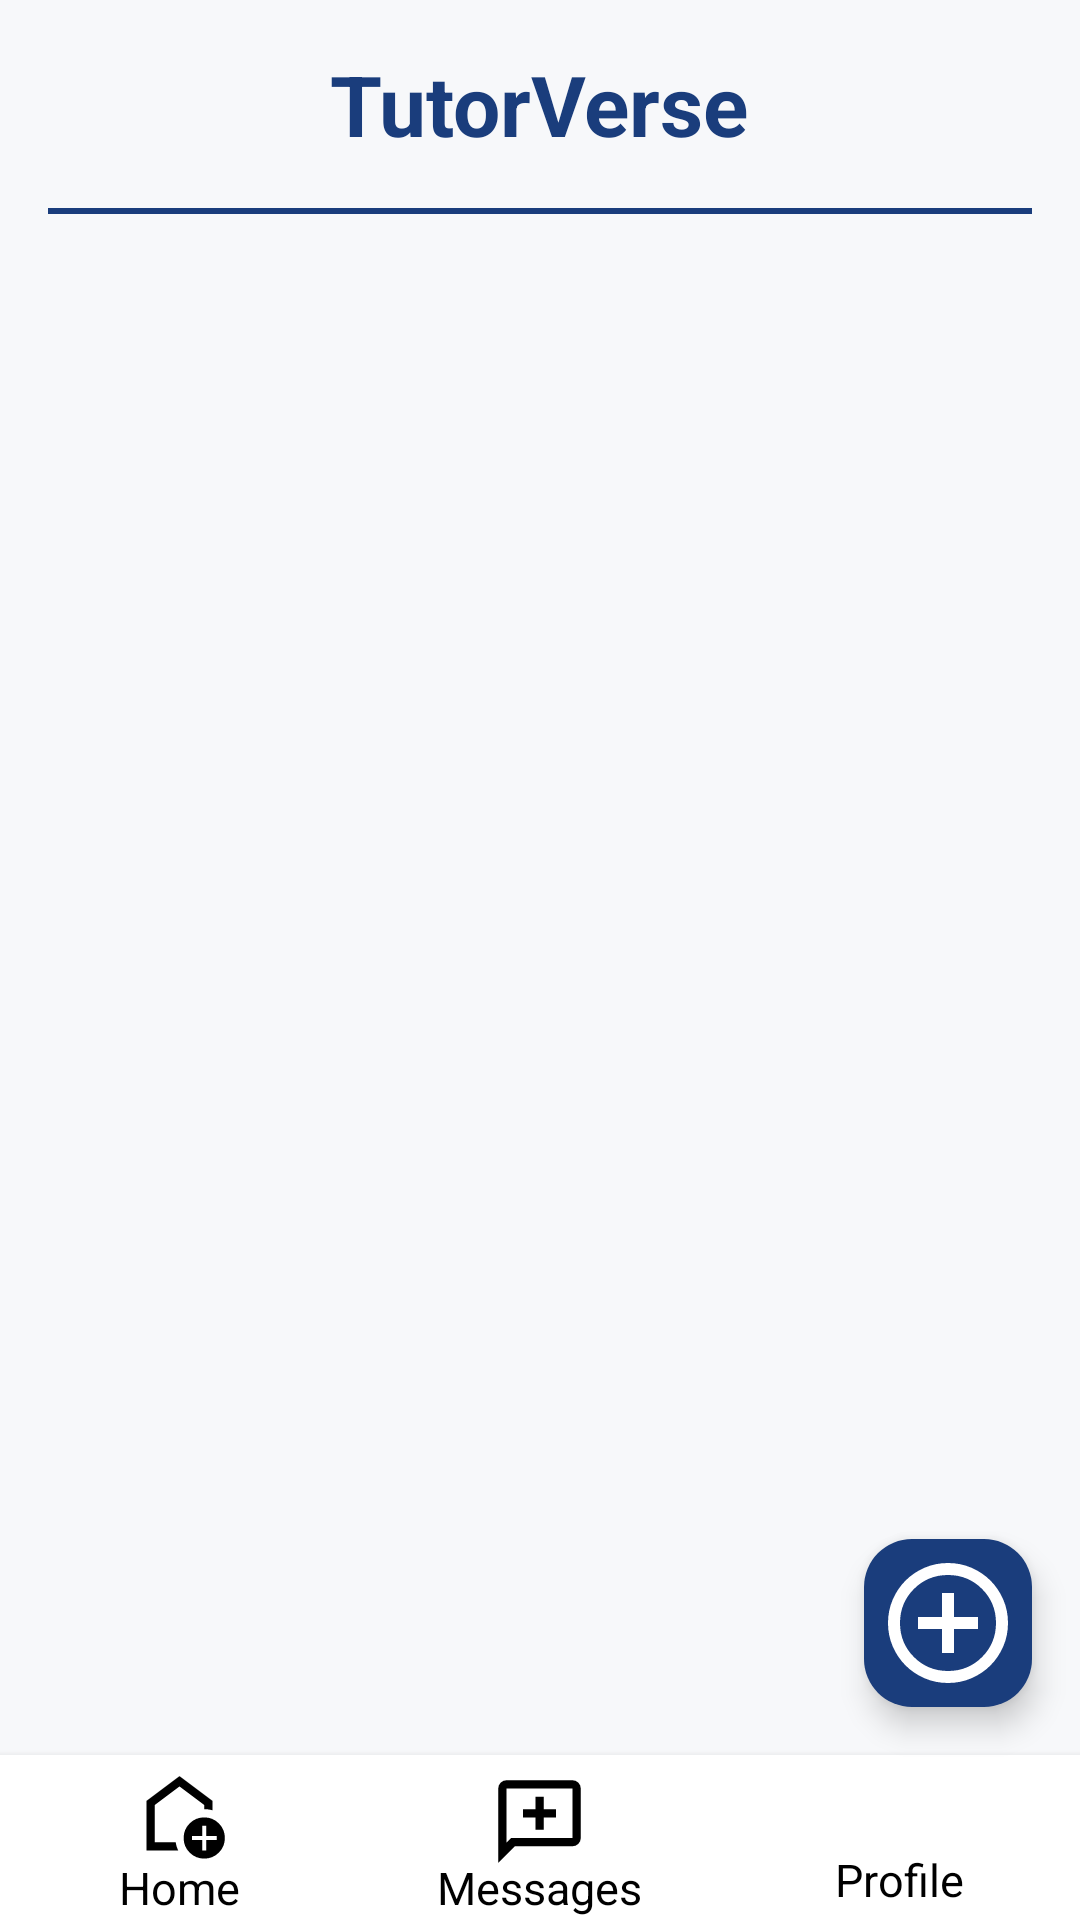

Screen size 1080 x 1920. Icon name, then its center in pixels as (x=x, y=y):
add comment: (x=539, y=1821)
